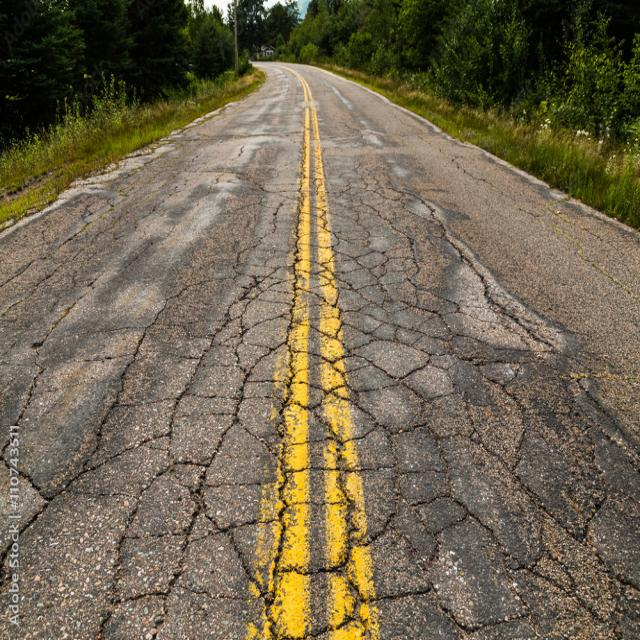Drain Hole: (62, 179, 546, 640)
